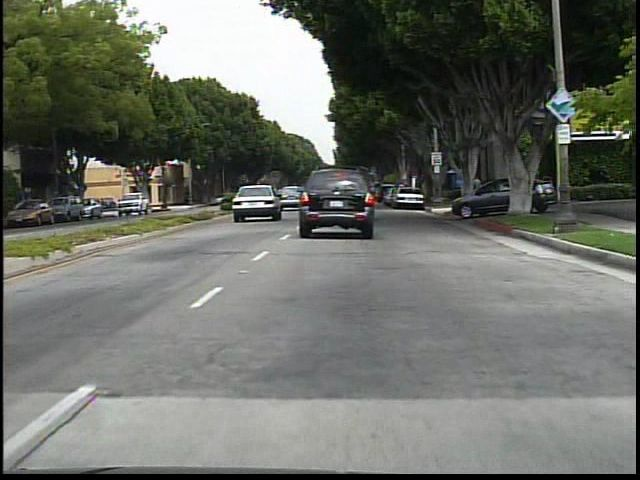person: (468, 171, 486, 209)
